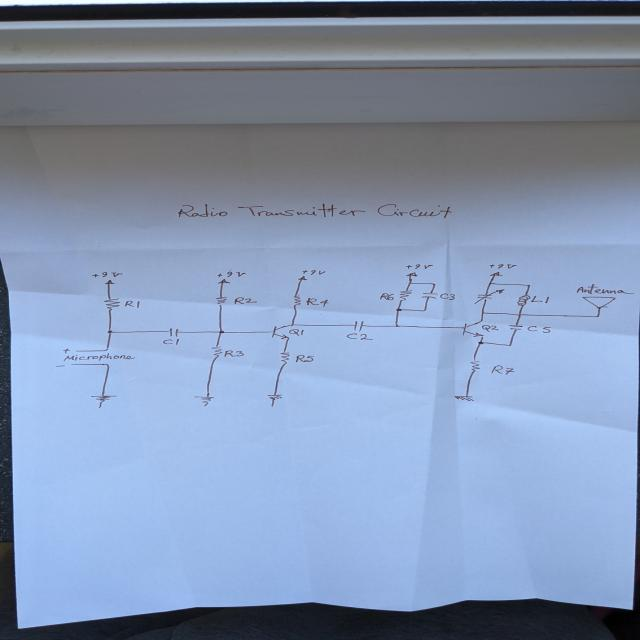capacitor: (473, 288, 505, 304), (351, 320, 366, 332), (166, 327, 180, 337), (507, 323, 524, 331), (420, 292, 438, 299)
ground: (89, 394, 119, 408), (192, 395, 215, 407), (266, 393, 283, 407), (452, 394, 476, 402)
inductor: (516, 294, 530, 306)
junction: (392, 322, 400, 328), (106, 329, 114, 334), (217, 329, 225, 334), (394, 307, 402, 312), (103, 363, 111, 367), (102, 348, 110, 352), (420, 308, 428, 312), (430, 282, 437, 286), (477, 340, 484, 344), (526, 283, 532, 287), (594, 314, 600, 318), (516, 313, 522, 316), (480, 311, 485, 314), (487, 282, 493, 284), (407, 282, 412, 284), (507, 344, 512, 346)
resistor: (102, 297, 120, 312), (209, 344, 223, 359), (397, 289, 413, 302), (278, 350, 291, 365), (468, 359, 481, 372), (214, 295, 228, 306), (292, 294, 301, 306)
source: (216, 278, 232, 284), (404, 271, 418, 277), (488, 271, 503, 276), (104, 278, 116, 284), (296, 275, 308, 280)
terminal: (68, 362, 74, 366), (73, 349, 77, 352)
text: (176, 202, 454, 219), (62, 352, 136, 362), (575, 283, 636, 295), (489, 364, 516, 375), (345, 332, 374, 341), (304, 297, 330, 307), (90, 271, 124, 278), (233, 296, 258, 305), (525, 325, 552, 333), (404, 263, 434, 270), (530, 294, 550, 304), (294, 354, 316, 363), (487, 263, 518, 269), (216, 271, 246, 277), (300, 269, 328, 275), (480, 324, 500, 332), (378, 292, 395, 301), (223, 350, 244, 357), (288, 328, 306, 336), (123, 300, 141, 308), (161, 338, 180, 345), (439, 293, 456, 300), (54, 363, 66, 368), (61, 348, 71, 353)
transistor: (461, 319, 484, 338), (270, 324, 295, 339)
